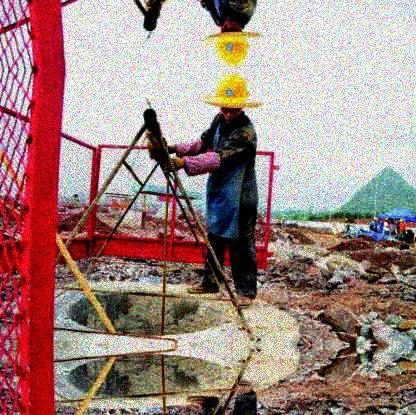helmet: (203, 16, 263, 69), (205, 74, 264, 120)
